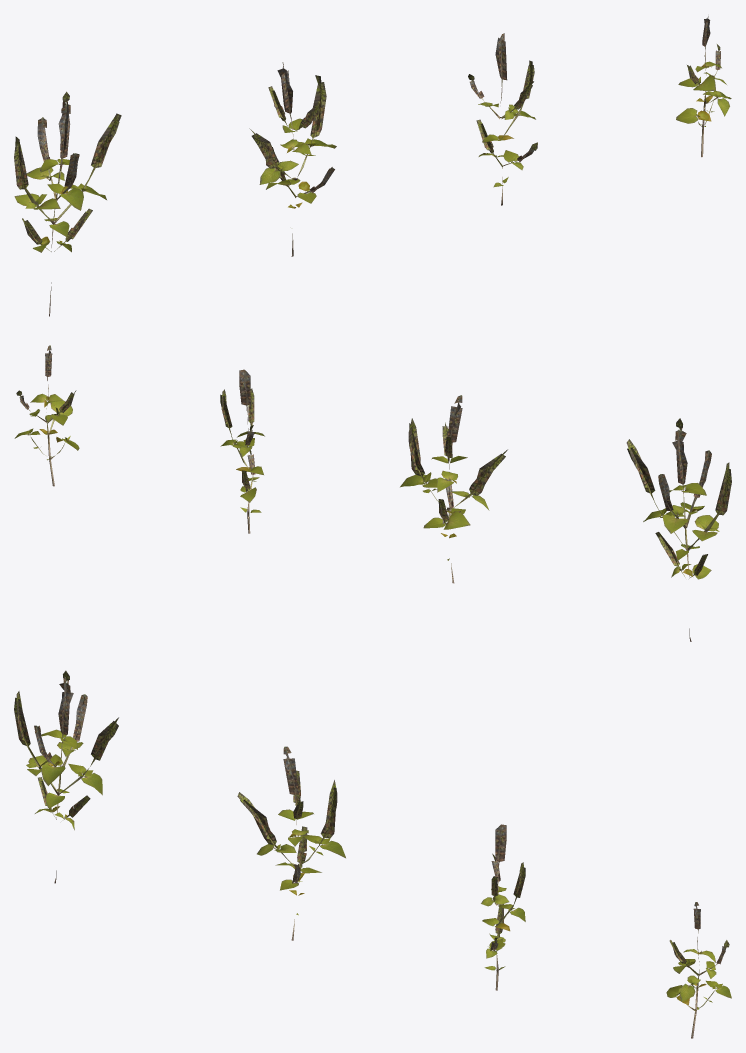
The model's file is shrub_b.glb.
The picture shows the model from 3 angles, top to bottom: view 1: azimuth 30°, elevation 25°; view 2: azimuth 150°, elevation 25°; view 3: azimuth 330°, elevation 25°; orthographic projection. The views are drawn at different scales.
Visible parts, largest first — view 1: shrub_03_a, shrub_03_b, shrub_03_c, shrub_03_d; view 2: shrub_03_a, shrub_03_b, shrub_03_c, shrub_03_d; view 3: shrub_03_a, shrub_03_b, shrub_03_c, shrub_03_d.
Part boxes in pixels (x1,y1,x2,y2): shrub_03_a: (14,91,121,316); shrub_03_b: (249,62,336,256); shrub_03_c: (468,33,537,205); shrub_03_d: (676,16,731,157); shrub_03_a: (626,418,731,641); shrub_03_b: (400,395,507,583); shrub_03_c: (220,369,264,533); shrub_03_d: (14,345,79,486); shrub_03_a: (14,670,118,883); shrub_03_b: (237,746,345,940); shrub_03_c: (481,824,525,990); shrub_03_d: (666,902,731,1038).
Bounding box in the file's own units: 1.37 × 0.4028 × 0.1512.
Materials: 1 (1 with a texture image).
